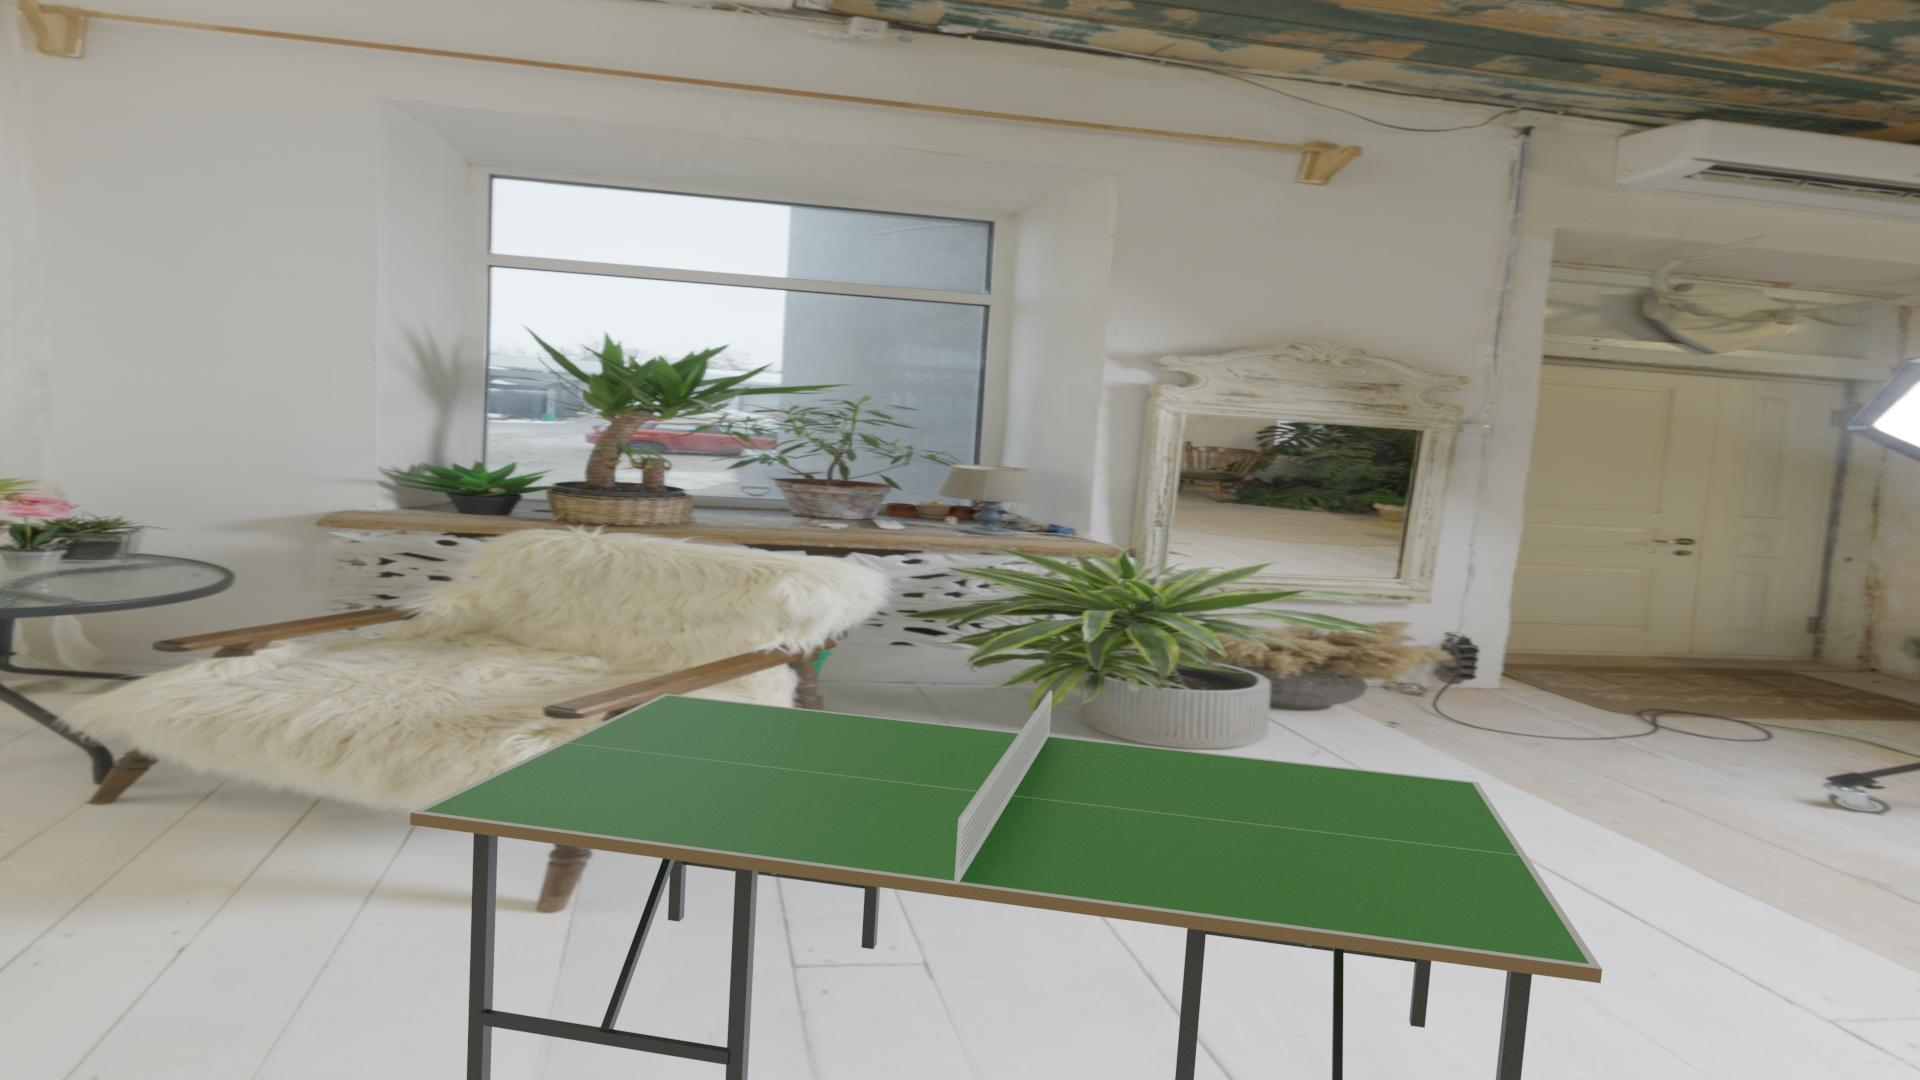table: (422, 695, 1590, 964)
